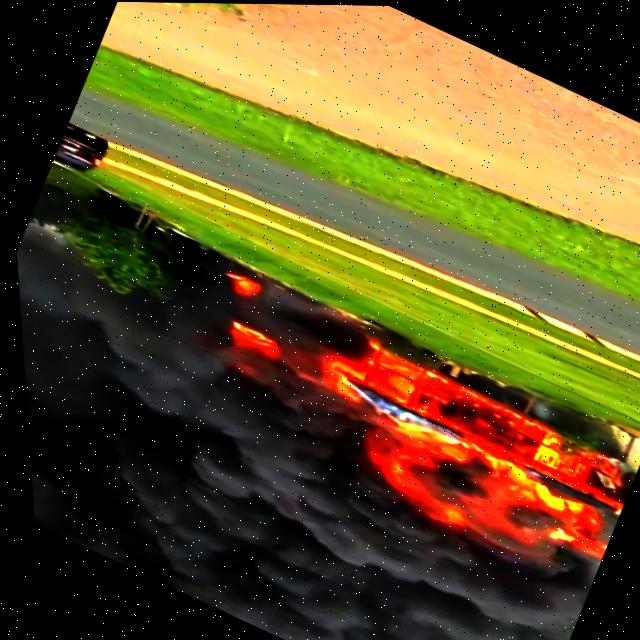Fire: (285, 330, 639, 590)
Smoke: (16, 301, 590, 640)
